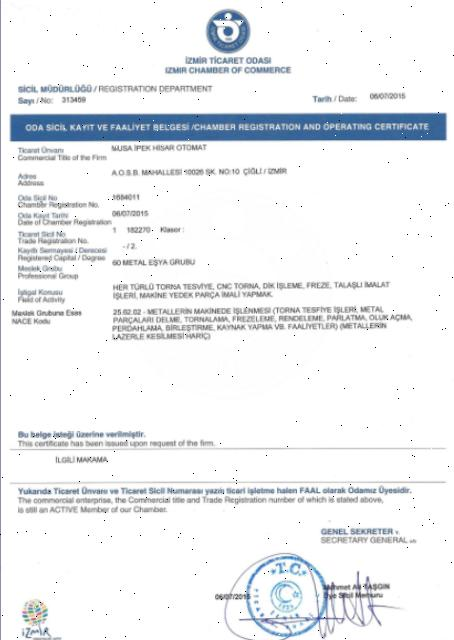stamp: (245, 554, 327, 636)
